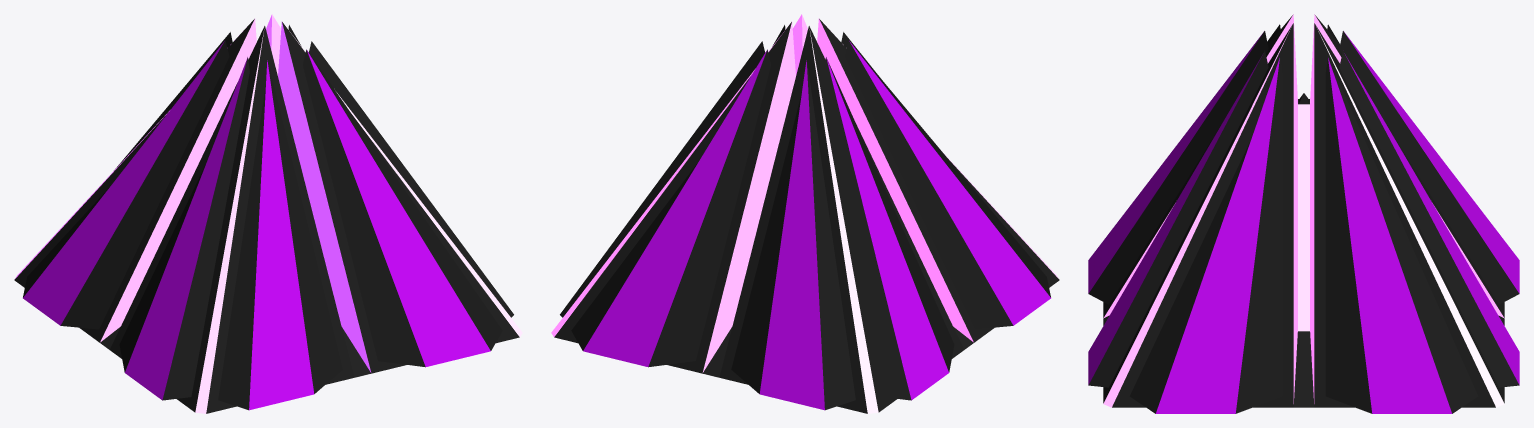
Rendered from PUAS.fbx.
The picture shows the model from 3 angles, left to right: view 1: azimuth 30°, elevation 25°; view 2: azimuth 150°, elevation 25°; view 3: azimuth 270°, elevation 25°; orthographic projection. The views are drawn at different scales.
Parts seen in each view (by area): view 1: Cube.002; view 2: Cube.002; view 3: Cube.002.
Boxes of the visible parts, bbox=[...] form: Cube.002: bbox=[14, 14, 522, 413]; Cube.002: bbox=[551, 14, 1059, 413]; Cube.002: bbox=[1088, 14, 1519, 413].
Size of the model in its own units: 215 by 167 by 215.
